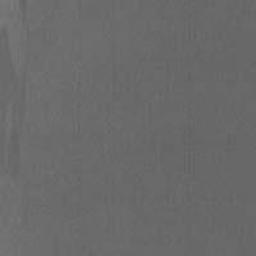Inclusion: (0, 0, 33, 179)
